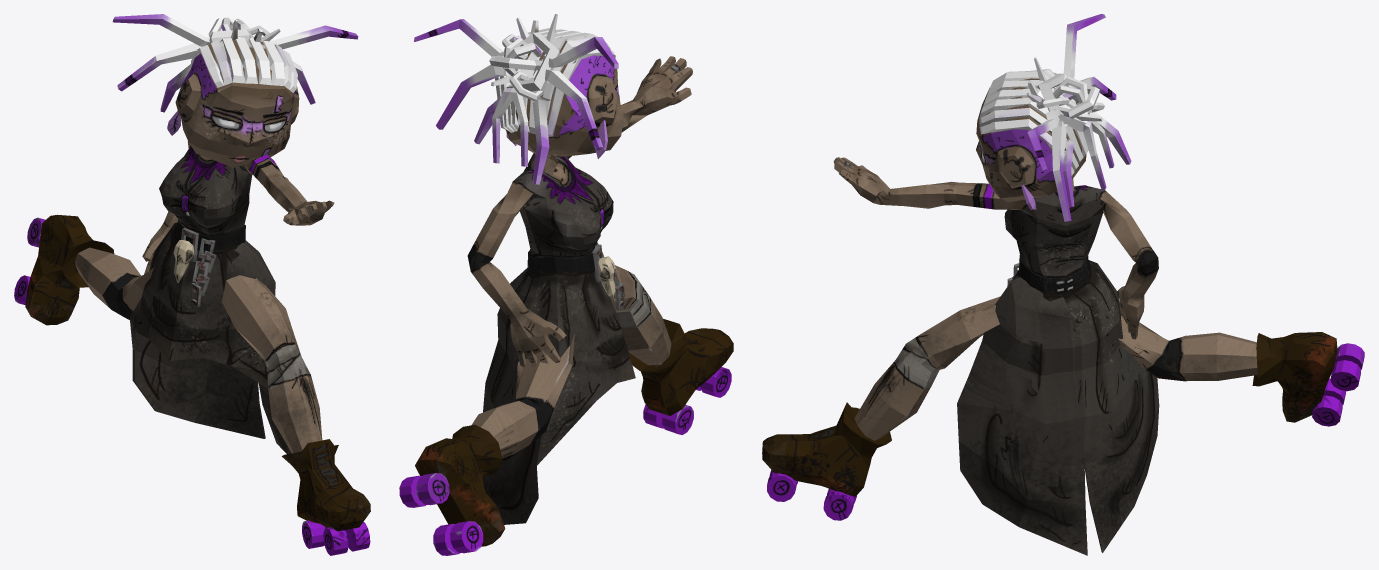
Rendered from bruja_000027.obj.
3 renders of one model, left to right at view 1: azimuth 30°, elevation 25°; view 2: azimuth 150°, elevation 25°; view 3: azimuth 270°, elevation 25°, orthographic. The views are drawn at different scales.
Visible parts, largest first — view 1: Bruja_Plane.001; view 2: Bruja_Plane.001; view 3: Bruja_Plane.001.
Boxes of the visible parts, <box> form: Bruja_Plane.001: <box>14,14,370,555</box>; Bruja_Plane.001: <box>399,14,733,555</box>; Bruja_Plane.001: <box>762,14,1364,555</box>.
Bounding box in the file's own units: 7.13 × 14.6 × 16.95.
